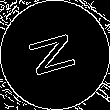N_E: (25, 29, 85, 81)
